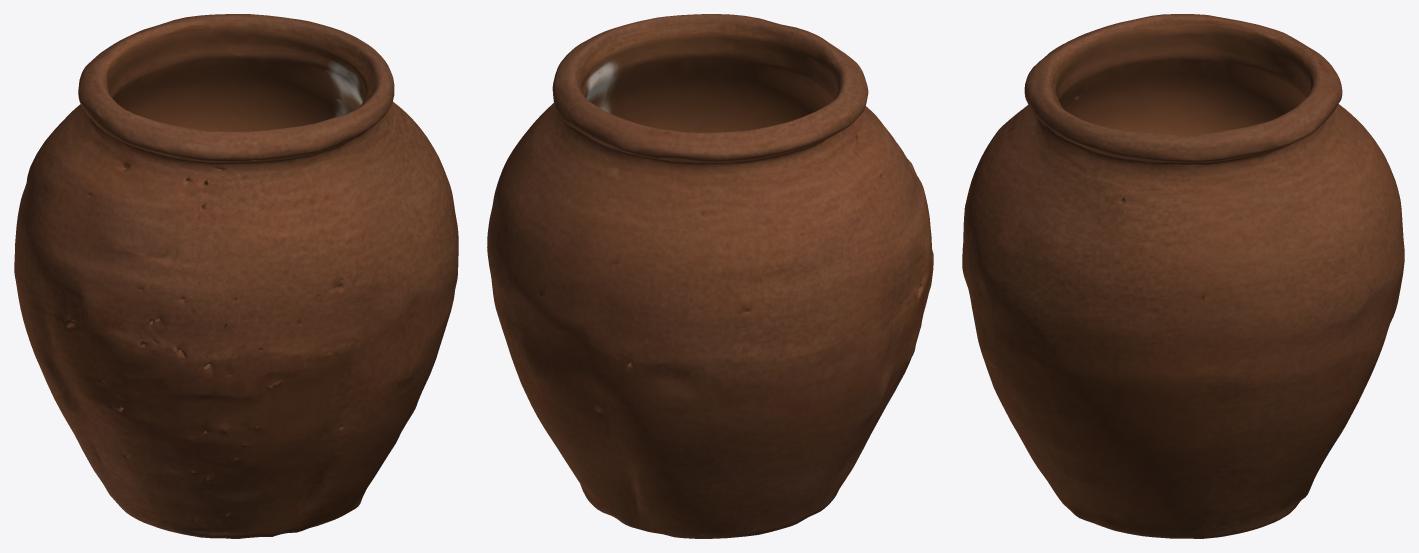
The model's file is SM_Lu_BlenderOptimized.fbx.
3 renders of one model, left to right at view 1: azimuth 30°, elevation 25°; view 2: azimuth 150°, elevation 25°; view 3: azimuth 270°, elevation 25°, orthographic.
Visible parts, largest first — view 1: tripo_node_43b907fd-c142-4d11-8b30-c6b7080fab23; view 2: tripo_node_43b907fd-c142-4d11-8b30-c6b7080fab23; view 3: tripo_node_43b907fd-c142-4d11-8b30-c6b7080fab23.
Part boxes in pixels (x1,y1,x2,y2): tripo_node_43b907fd-c142-4d11-8b30-c6b7080fab23: (14, 14, 458, 538); tripo_node_43b907fd-c142-4d11-8b30-c6b7080fab23: (487, 14, 933, 538); tripo_node_43b907fd-c142-4d11-8b30-c6b7080fab23: (962, 14, 1404, 538).
Bounding box in the file's own units: 0.952 × 0.9801 × 0.9526.
